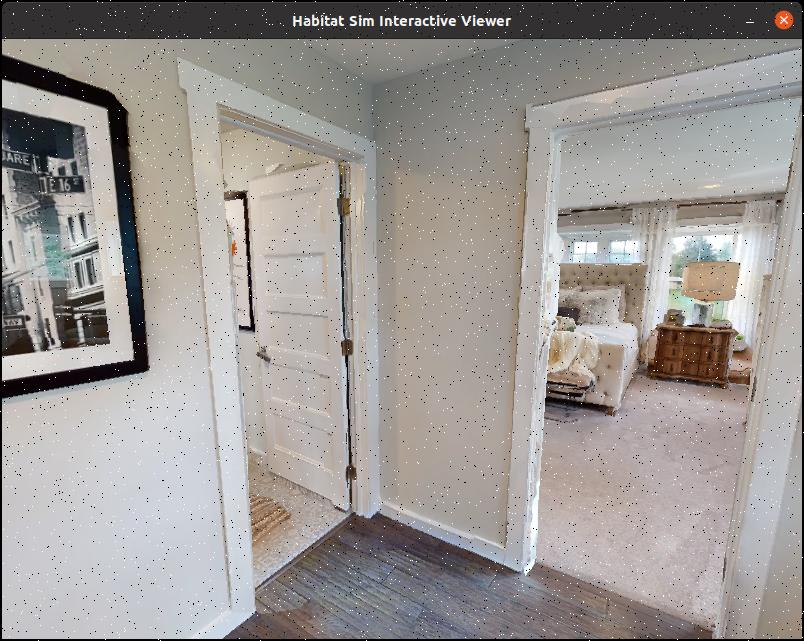bed: (548, 241, 661, 414)
door: (255, 157, 355, 519)
door-frame: (525, 48, 804, 641), (185, 82, 385, 619)
